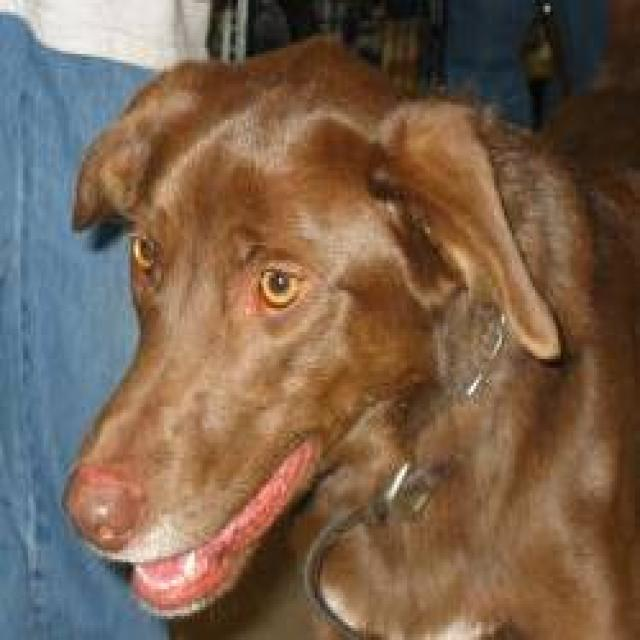dog: (59, 0, 637, 637)
